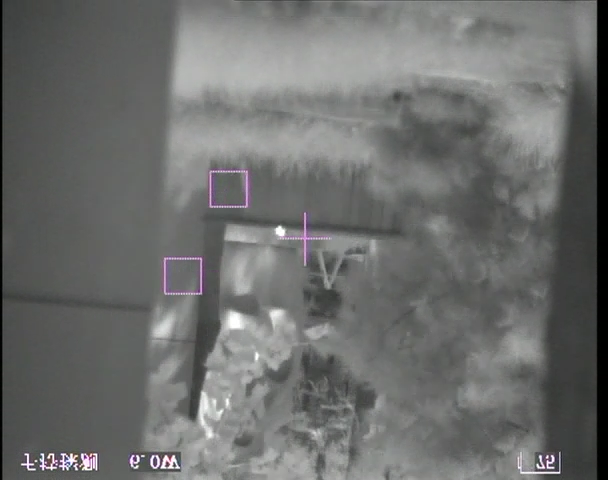my: (274, 224, 287, 237)
